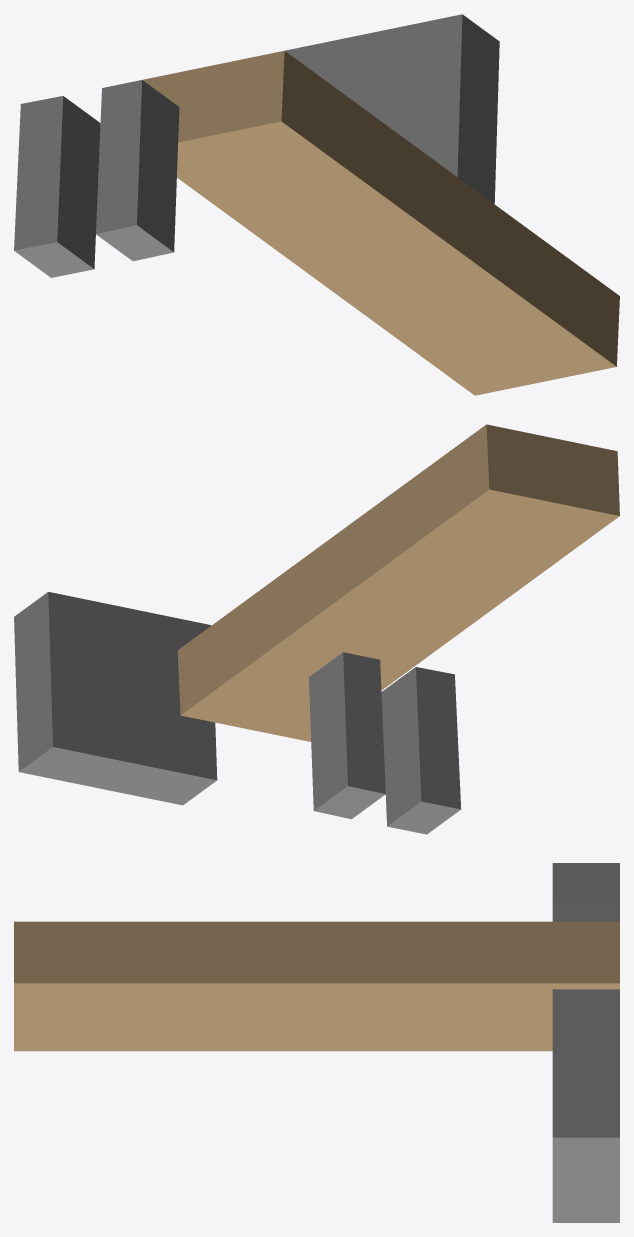
3 views of the same model, one above another, from view 1: azimuth 30°, elevation 25°; view 2: azimuth 150°, elevation 25°; view 3: azimuth 270°, elevation 25° (orthographic). The views are drawn at different scales.
Visible parts, largest first — view 1: 0_2_3_2_3_3_2_3_1_0; view 2: 0_2_3_2_3_3_2_3_1_0; view 3: 0_2_3_2_3_3_2_3_1_0.
Boxes of the visible parts, box(x1,y1,x2,y2) form: 0_2_3_2_3_3_2_3_1_0: box(14, 14, 619, 395); 0_2_3_2_3_3_2_3_1_0: box(14, 424, 619, 834); 0_2_3_2_3_3_2_3_1_0: box(14, 863, 619, 1222).
Size of the model in its own units: 20.84 by 8.23 by 27.
